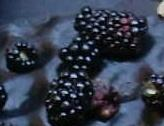berry: (75, 8, 147, 57), (45, 72, 93, 125), (59, 35, 101, 74), (92, 81, 120, 121), (5, 41, 38, 72), (141, 74, 163, 114), (0, 85, 7, 110)
